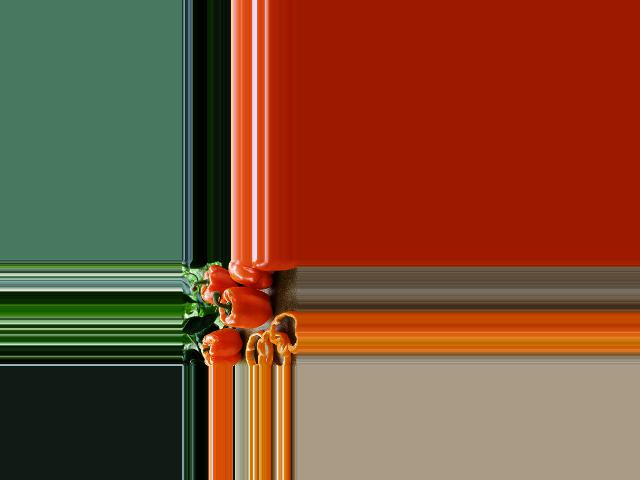bell_pepper: (227, 260, 276, 288)
